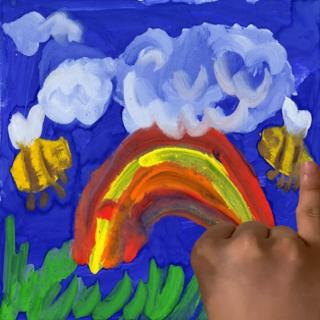FINE: (186, 153, 320, 320)
